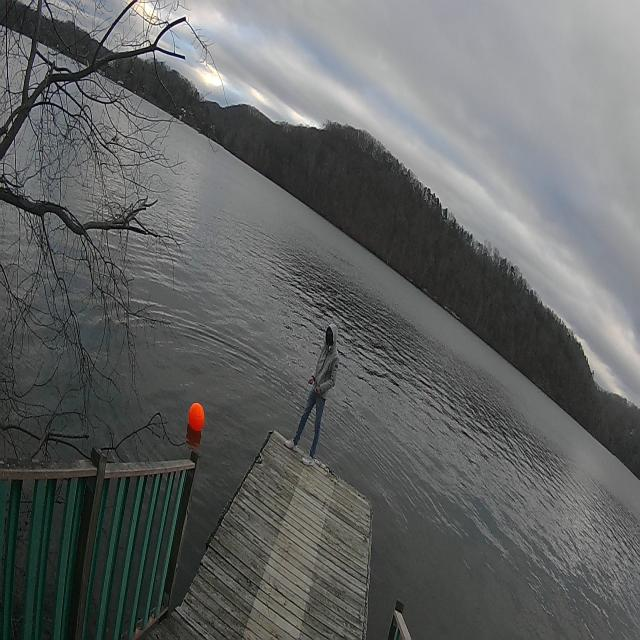Buoy: (184, 397, 211, 442)
